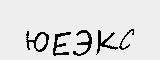В: (54, 16, 76, 33)
У: (103, 18, 120, 35)
Щ: (24, 14, 54, 37)
Ю: (122, 17, 151, 37), (79, 17, 105, 34)
Ұ: (6, 18, 26, 38)
